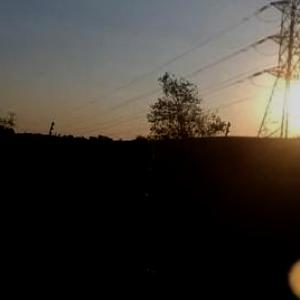follow: (85, 133, 178, 299)
